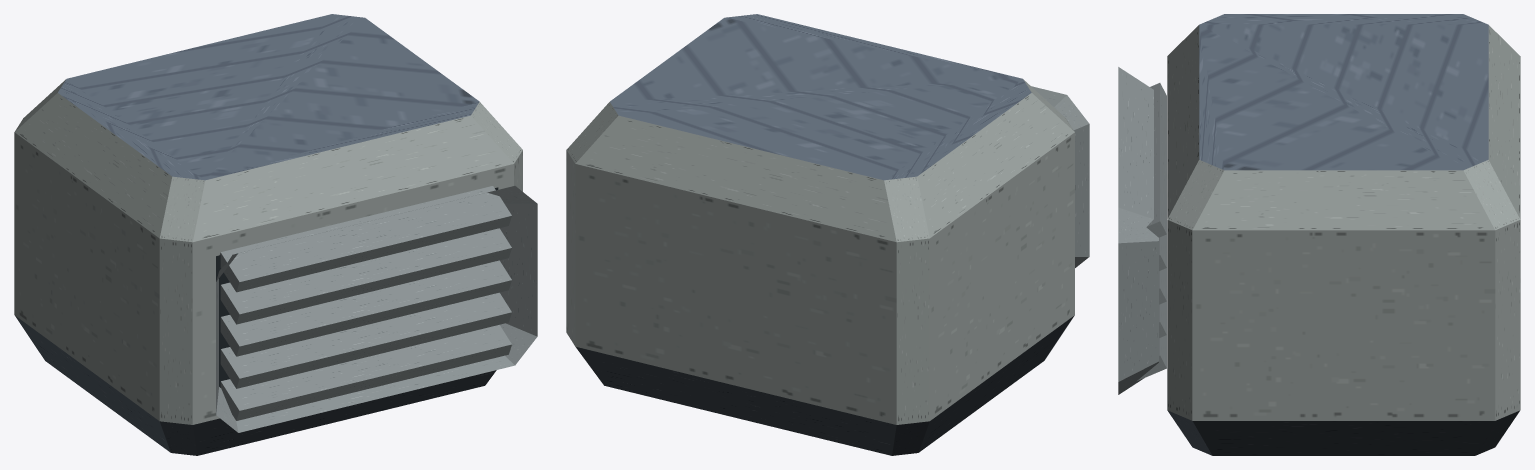
File: VentUnit.fbx
3 renders of one model, left to right at view 1: azimuth 30°, elevation 25°; view 2: azimuth 150°, elevation 25°; view 3: azimuth 270°, elevation 25°, orthographic. The views are drawn at different scales.
Visible parts, largest first — view 1: VentUnit; view 2: VentUnit; view 3: VentUnit.
Boxes of the visible parts, box(x1,y1,x2,y2) form: VentUnit: box(14, 14, 537, 455); VentUnit: box(566, 14, 1089, 455); VentUnit: box(1118, 14, 1520, 455).
Size of the model in its own units: 260 by 185 by 239.
